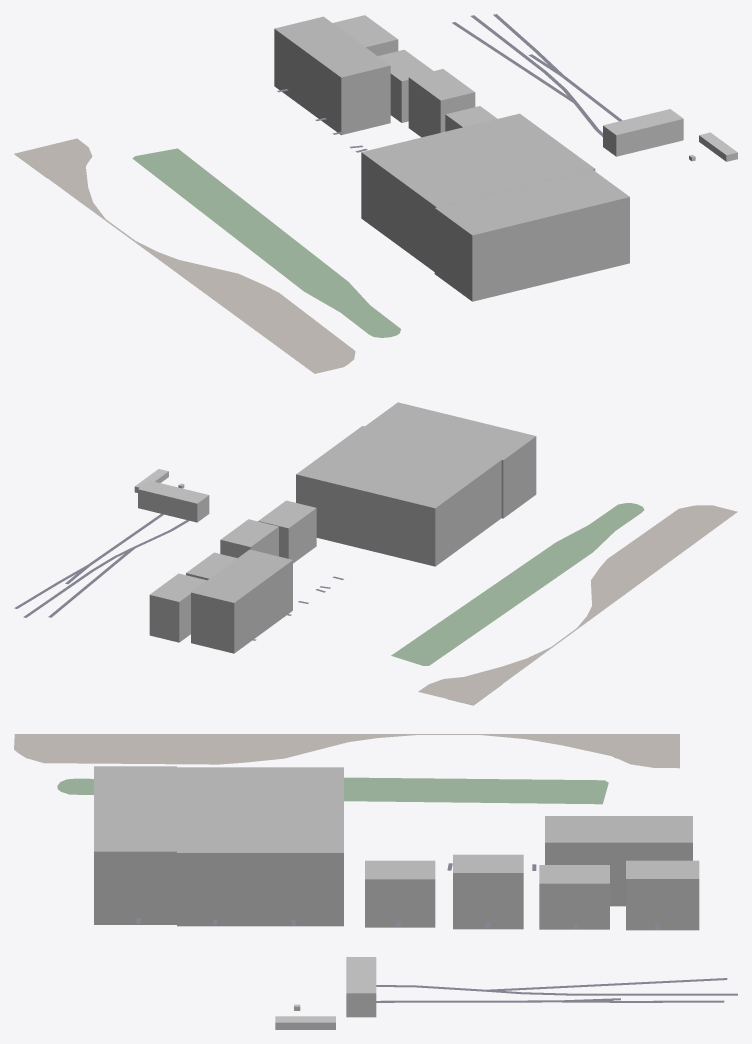
The model's file is 120_81_mid.glb.
3 renders of one model, top to bottom at view 1: azimuth 30°, elevation 25°; view 2: azimuth 150°, elevation 25°; view 3: azimuth 270°, elevation 25°, orthographic. The views are drawn at different scales.
Size of the model in its own units: 503 by 60.95 by 527.
